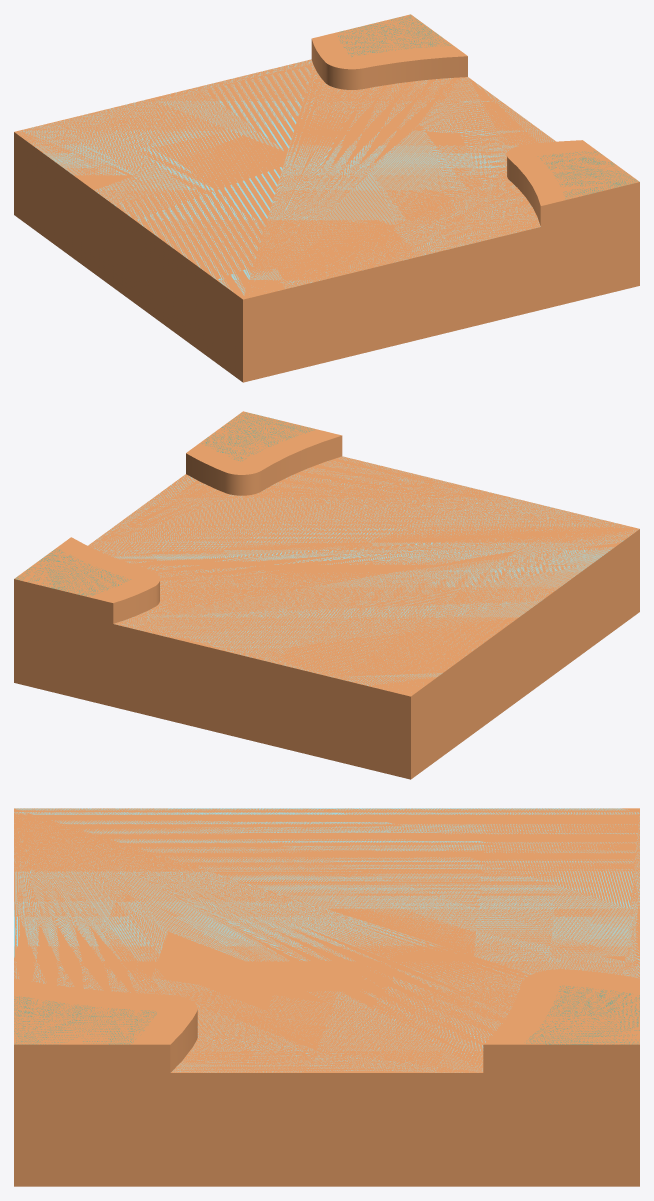
File: ground_dirtRiverEntrance.obj
The picture shows the model from 3 angles, top to bottom: view 1: azimuth 30°, elevation 25°; view 2: azimuth 150°, elevation 25°; view 3: azimuth 270°, elevation 25°; orthographic projection. The views are drawn at different scales.
Parts seen in each view (by area): view 1: ground_dirtRiverEntrance; view 2: ground_dirtRiverEntrance; view 3: ground_dirtRiverEntrance.
Part boxes in pixels (<box>): ground_dirtRiverEntrance: <box>14,14,639,382</box>; ground_dirtRiverEntrance: <box>14,411,639,779</box>; ground_dirtRiverEntrance: <box>14,808,639,1186</box>.
Size of the model in its own units: 10 by 2.5 by 10.
